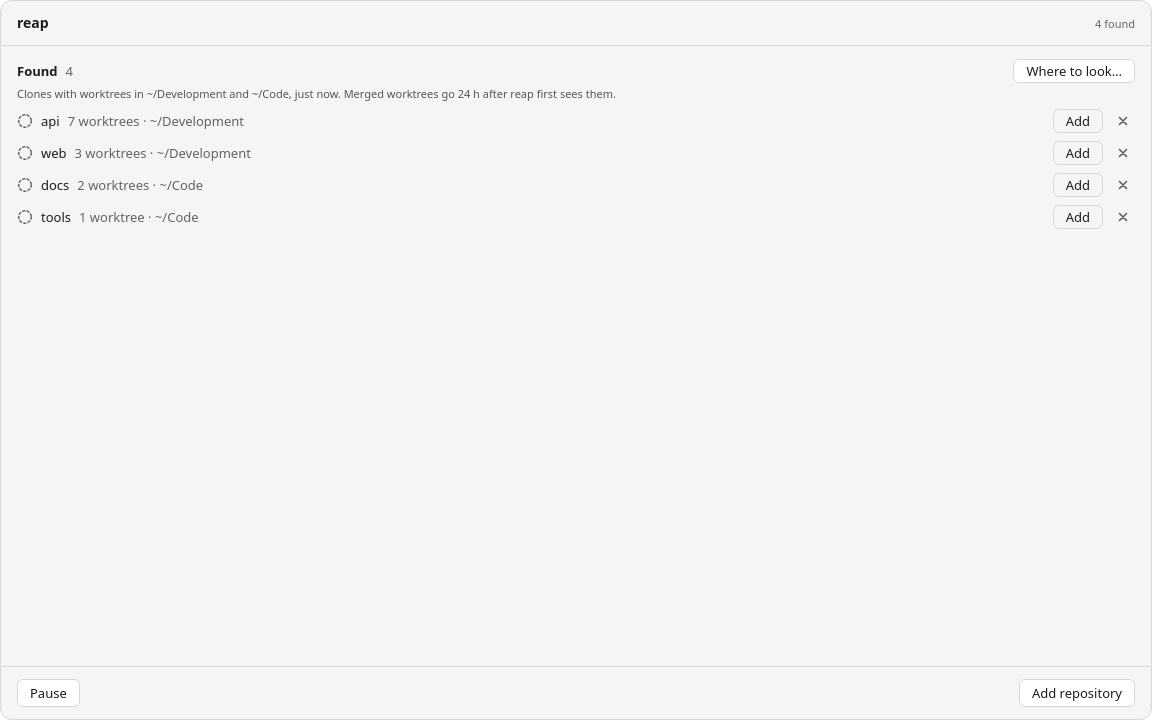
Test: Popover Where to look › stops looking in a folder, and disables Look again with none left
Click the button "Where to look…" at (1074, 71), box left=1014, top=59, right=1135, bottom=83
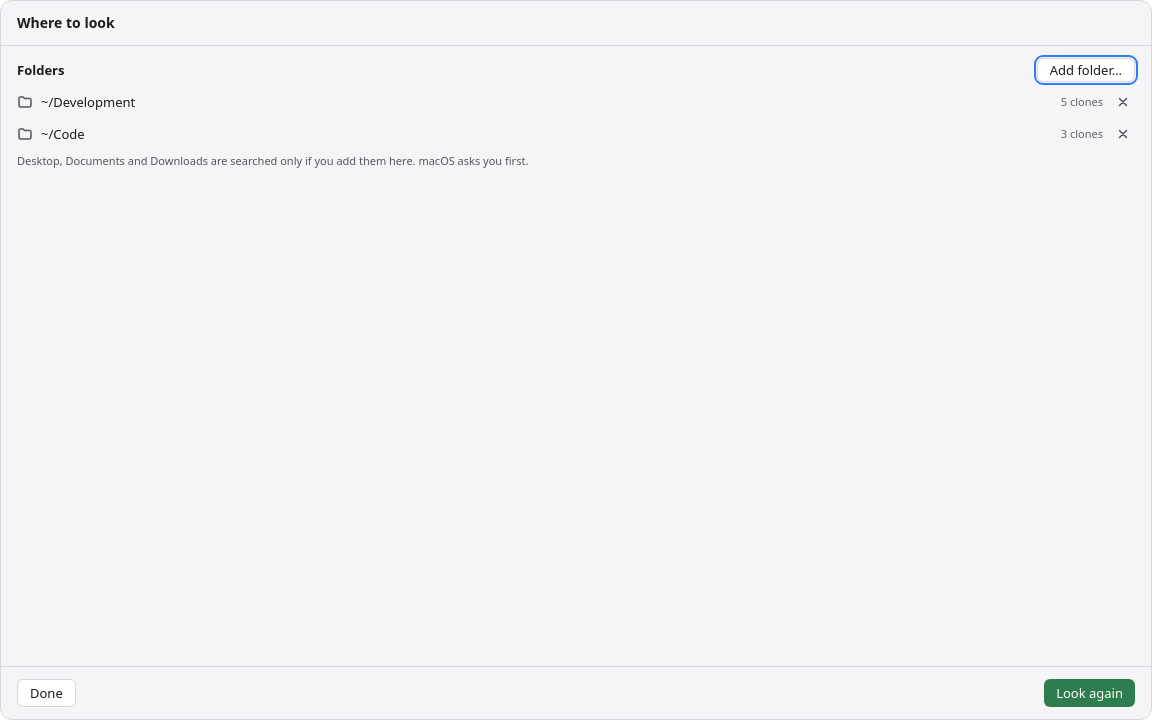
Click the button named "Stop looking in ~/Development" at (1123, 102), box left=1111, top=90, right=1135, bottom=114
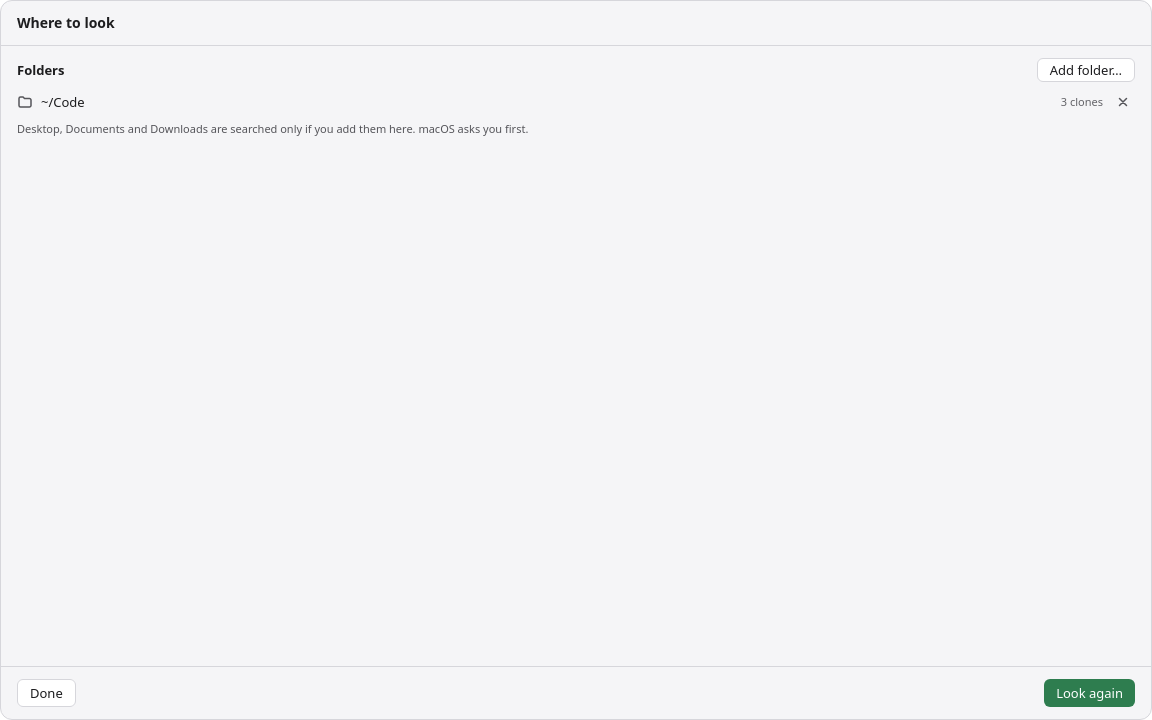
Result: the text "~/Development" is gone
Click the button named "Stop looking in ~/Code" at (1123, 102), box left=1111, top=90, right=1135, bottom=114
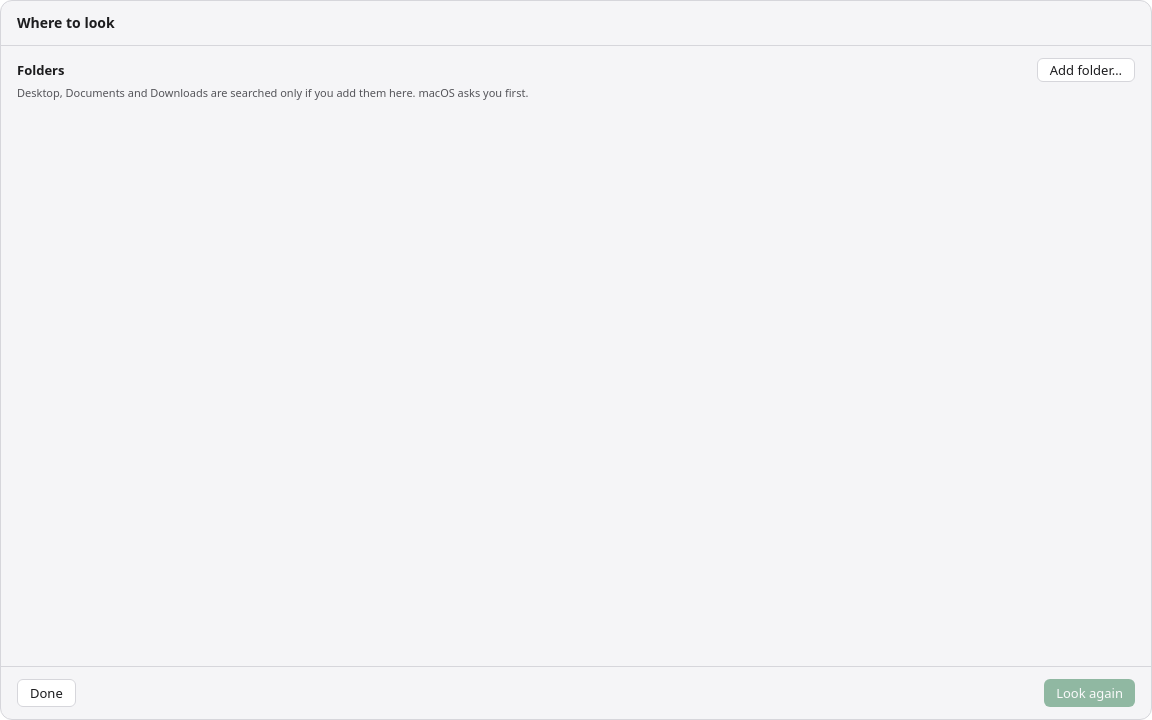
Result: the button "Add folder…" is shown at left=1037, top=58, right=1135, bottom=82
Result: the button "Look again" is disabled at left=1044, top=679, right=1135, bottom=707
